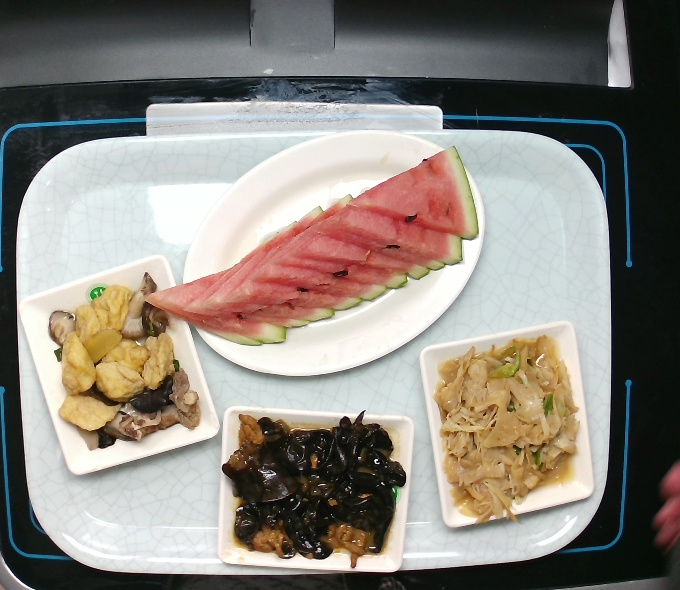wcq-LuSun: (430, 336, 581, 532)
wcq-MuErChaoRou: (213, 404, 406, 576)
wcq-XiGua: (139, 144, 483, 351)
wcq-YouPaoPaiGu: (33, 275, 202, 458)
